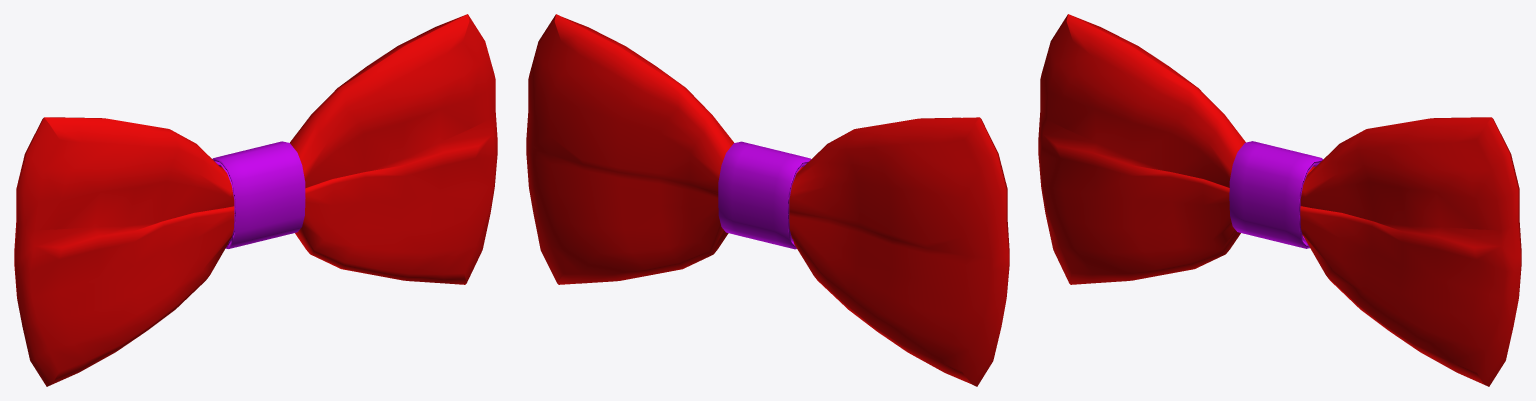
File: bowtie.fbx
3 views of the same model, side by side, from view 1: azimuth 30°, elevation 25°; view 2: azimuth 150°, elevation 25°; view 3: azimuth 330°, elevation 25° (orthographic).
Parts seen in each view (by area): view 1: pCylinder2; view 2: pCylinder2; view 3: pCylinder2.
Boxes of the visible parts, left/top/right/bottom form: pCylinder2: left=14, top=14, right=497, bottom=386; pCylinder2: left=526, top=14, right=1009, bottom=386; pCylinder2: left=1038, top=14, right=1521, bottom=386.
Bounding box in the file's own units: 279 × 150 × 32.07.
